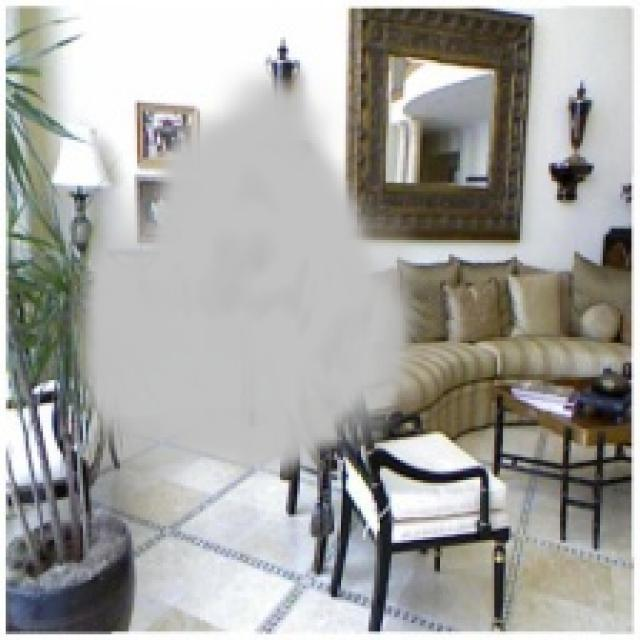Smoke: (69, 63, 432, 486)
